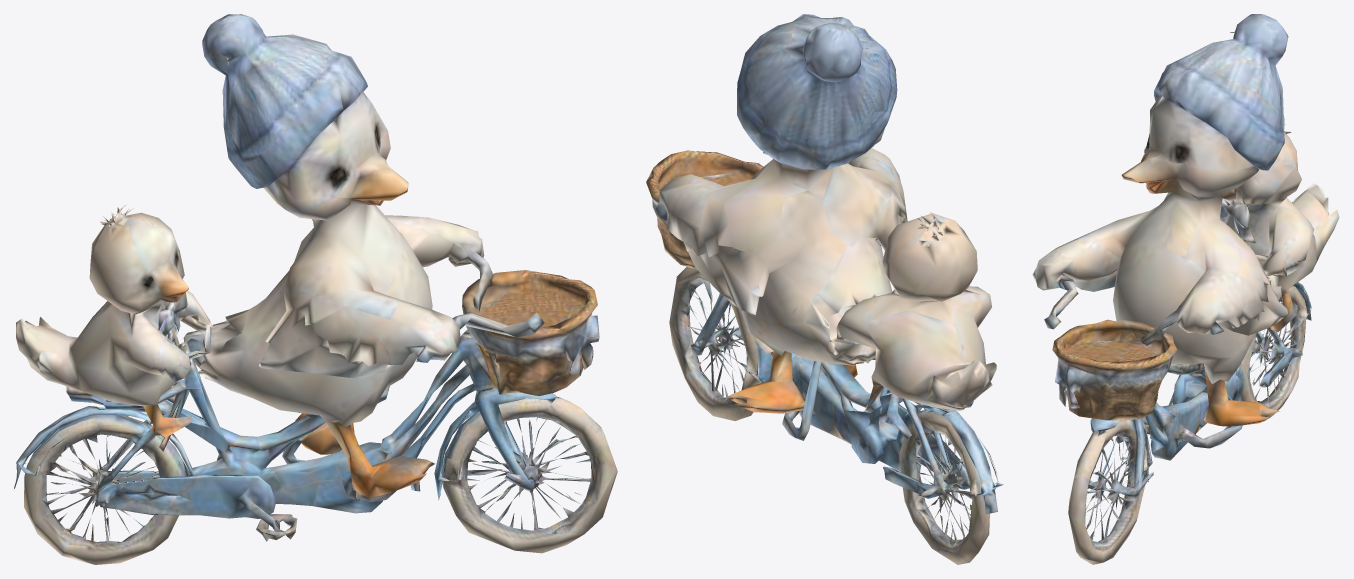
3 renders of one model, left to right at view 1: azimuth 30°, elevation 25°; view 2: azimuth 150°, elevation 25°; view 3: azimuth 270°, elevation 25°, orthographic. The views are drawn at different scales.
Bounding box in the file's own units: 0.9036 × 0.9563 × 0.5859.
Materials: 1 (1 with a texture image).
